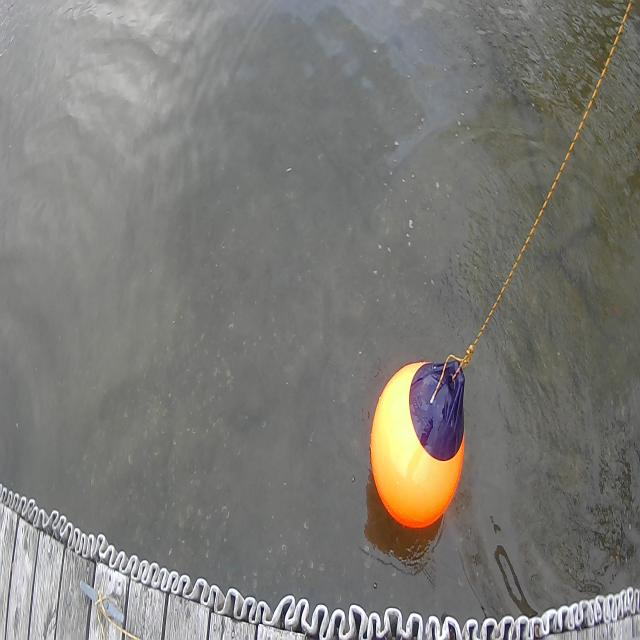Buoy: (365, 354, 472, 554)
